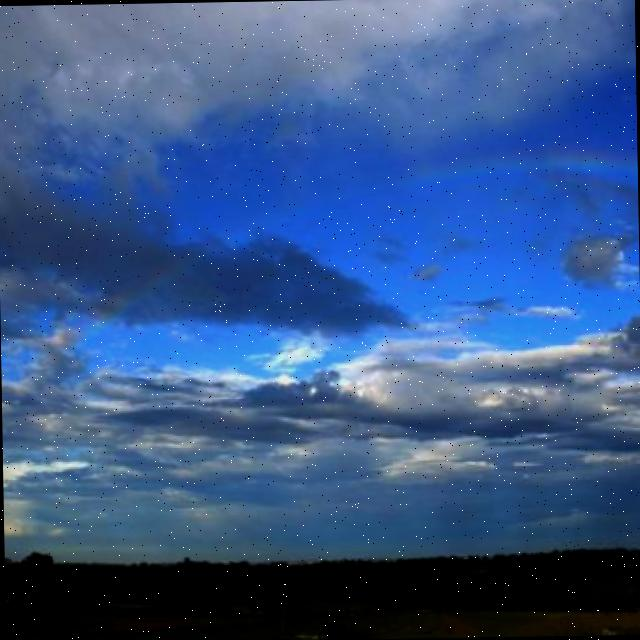Ac: (1, 43, 640, 523)
